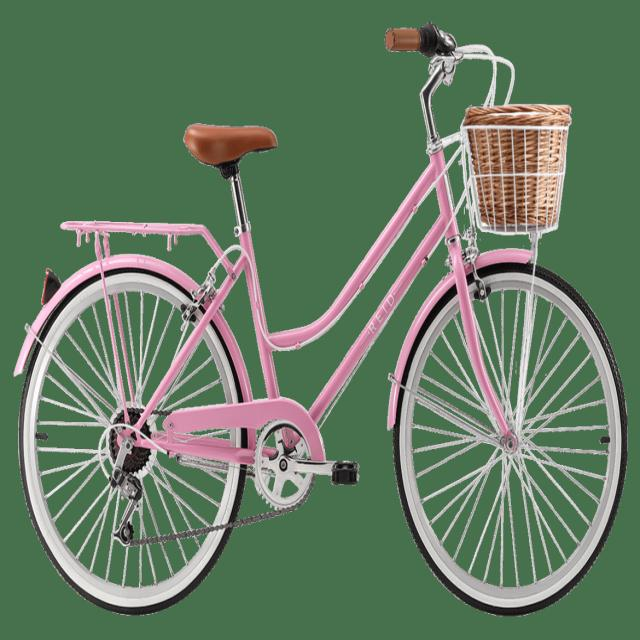urban-bike: (14, 22, 630, 616)
